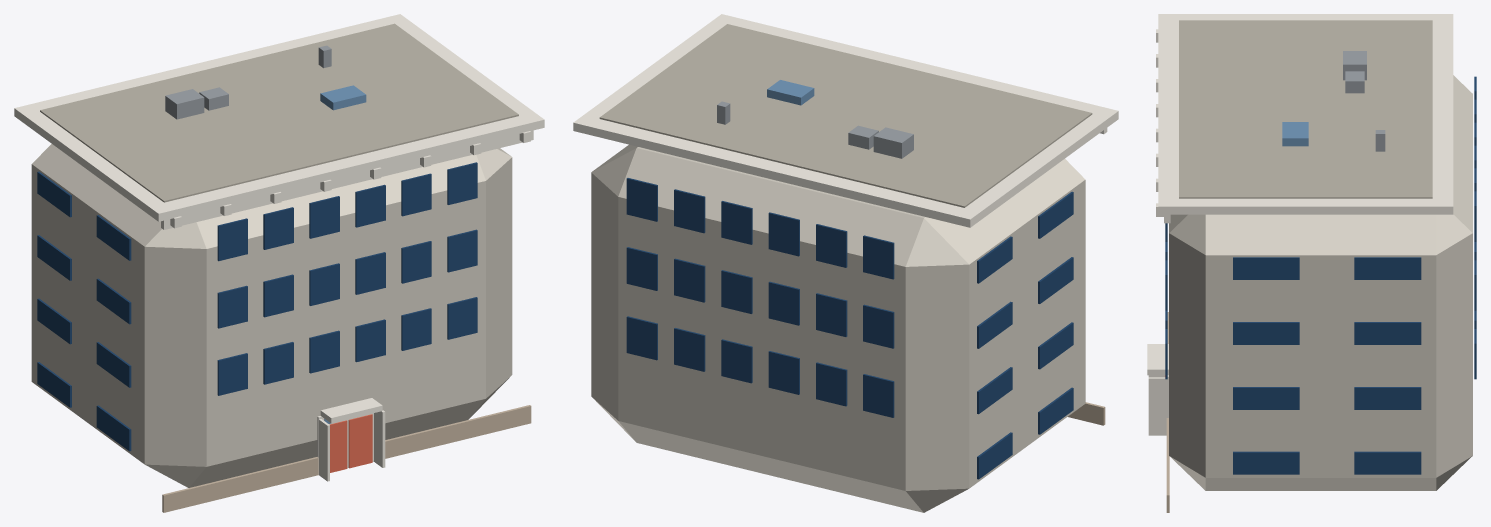
The model's file is apt_w20_f4_punched.glb.
3 renders of one model, left to right at view 1: azimuth 30°, elevation 25°; view 2: azimuth 150°, elevation 25°; view 3: azimuth 270°, elevation 25°, orthographic. The views are drawn at different scales.
Parts seen in each view (by area): view 1: walls, roofslab, corn, bsmt, frieze, door.001, win.007, win.016, win.005, win.006, win.008, win.012 (+26 smaller); view 2: walls, roofslab, corn, win.034, win.018, win.019, win.021, win.023, win.024, win.025, win.026, win.032 (+19 smaller); view 3: walls, roofslab, corn, sb.003, sb.001, sb.007, sb.011, sb.015, sb.005, sb.009, sb.013, cpost.001 (+5 smaller).
Part boxes in pixels (left/top/right/bottom): walls: left=31, top=144, right=512, bottom=487; roofslab: left=40, top=23, right=518, bottom=202; corn: left=14, top=14, right=544, bottom=221; bsmt: left=162, top=405, right=531, bottom=512; frieze: left=161, top=130, right=533, bottom=229; door.001: left=348, top=414, right=372, bottom=468; win.007: left=263, top=274, right=293, bottom=317; win.016: left=401, top=173, right=431, bottom=216; win.005: left=447, top=297, right=477, bottom=339; win.006: left=217, top=285, right=247, bottom=328; win.008: left=309, top=263, right=339, bottom=305; win.012: left=217, top=218, right=247, bottom=261; walls: left=591, top=144, right=1085, bottom=512; roofslab: left=599, top=24, right=1092, bottom=207; corn: left=573, top=14, right=1118, bottom=227; win.034: left=674, top=189, right=705, bottom=233; win.018: left=863, top=374, right=894, bottom=417; win.019: left=816, top=362, right=847, bottom=406; win.021: left=721, top=339, right=752, bottom=383; win.023: left=626, top=316, right=657, bottom=360; win.024: left=863, top=304, right=894, bottom=348; win.025: left=816, top=293, right=847, bottom=336; win.026: left=768, top=281, right=799, bottom=325; win.032: left=768, top=212, right=799, bottom=256; walls: left=1169, top=75, right=1472, bottom=490; roofslab: left=1179, top=20, right=1432, bottom=198; corn: left=1158, top=14, right=1453, bottom=214; sb.003: left=1354, top=451, right=1421, bottom=474; sb.001: left=1233, top=451, right=1299, bottom=474; sb.007: left=1354, top=387, right=1421, bottom=409; sb.011: left=1354, top=322, right=1421, bottom=344; sb.015: left=1354, top=257, right=1421, bottom=279; sb.005: left=1233, top=387, right=1299, bottom=409; sb.009: left=1233, top=322, right=1299, bottom=344; sb.013: left=1233, top=257, right=1299, bottom=279; cpost.001: left=1148, top=377, right=1166, bottom=435.
Bounding box in the file's own units: 21 × 16.8 × 15.17.
